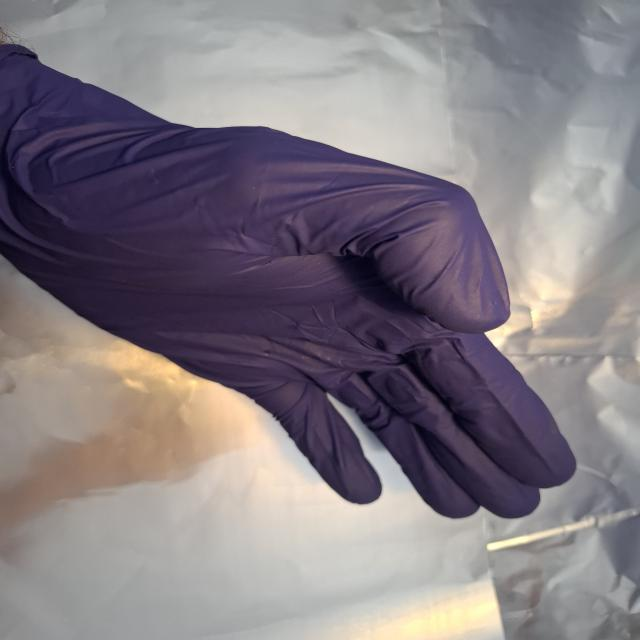glove_on: (0, 40, 582, 522)
